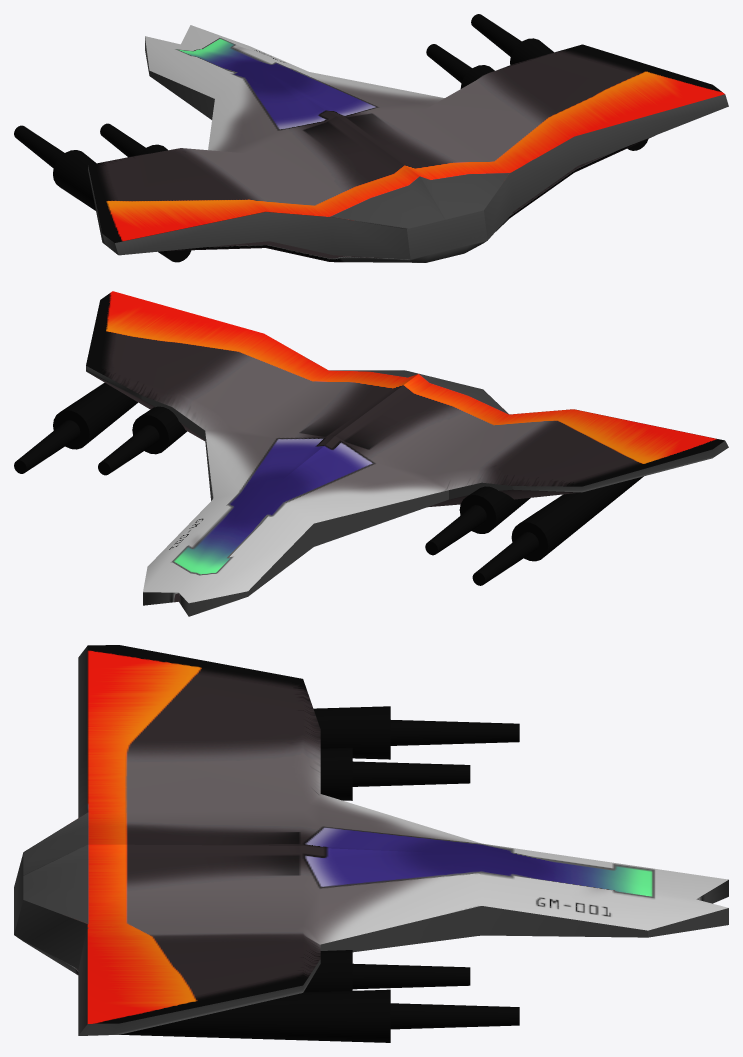
File: herojet.obj
3 views of the same model, one above another, from view 1: azimuth 30°, elevation 25°; view 2: azimuth 150°, elevation 25°; view 3: azimuth 270°, elevation 25° (orthographic). The views are drawn at different scales.
Parts seen in each view (by area): view 1: pCube2; view 2: pCube2; view 3: pCube2.
Boxes of the visible parts, <box> form: pCube2: <box>14,14,728,262</box>; pCube2: <box>14,291,728,616</box>; pCube2: <box>14,645,728,1042</box>.
Size of the model in its own units: 15.27 by 1.89 by 12.19.
